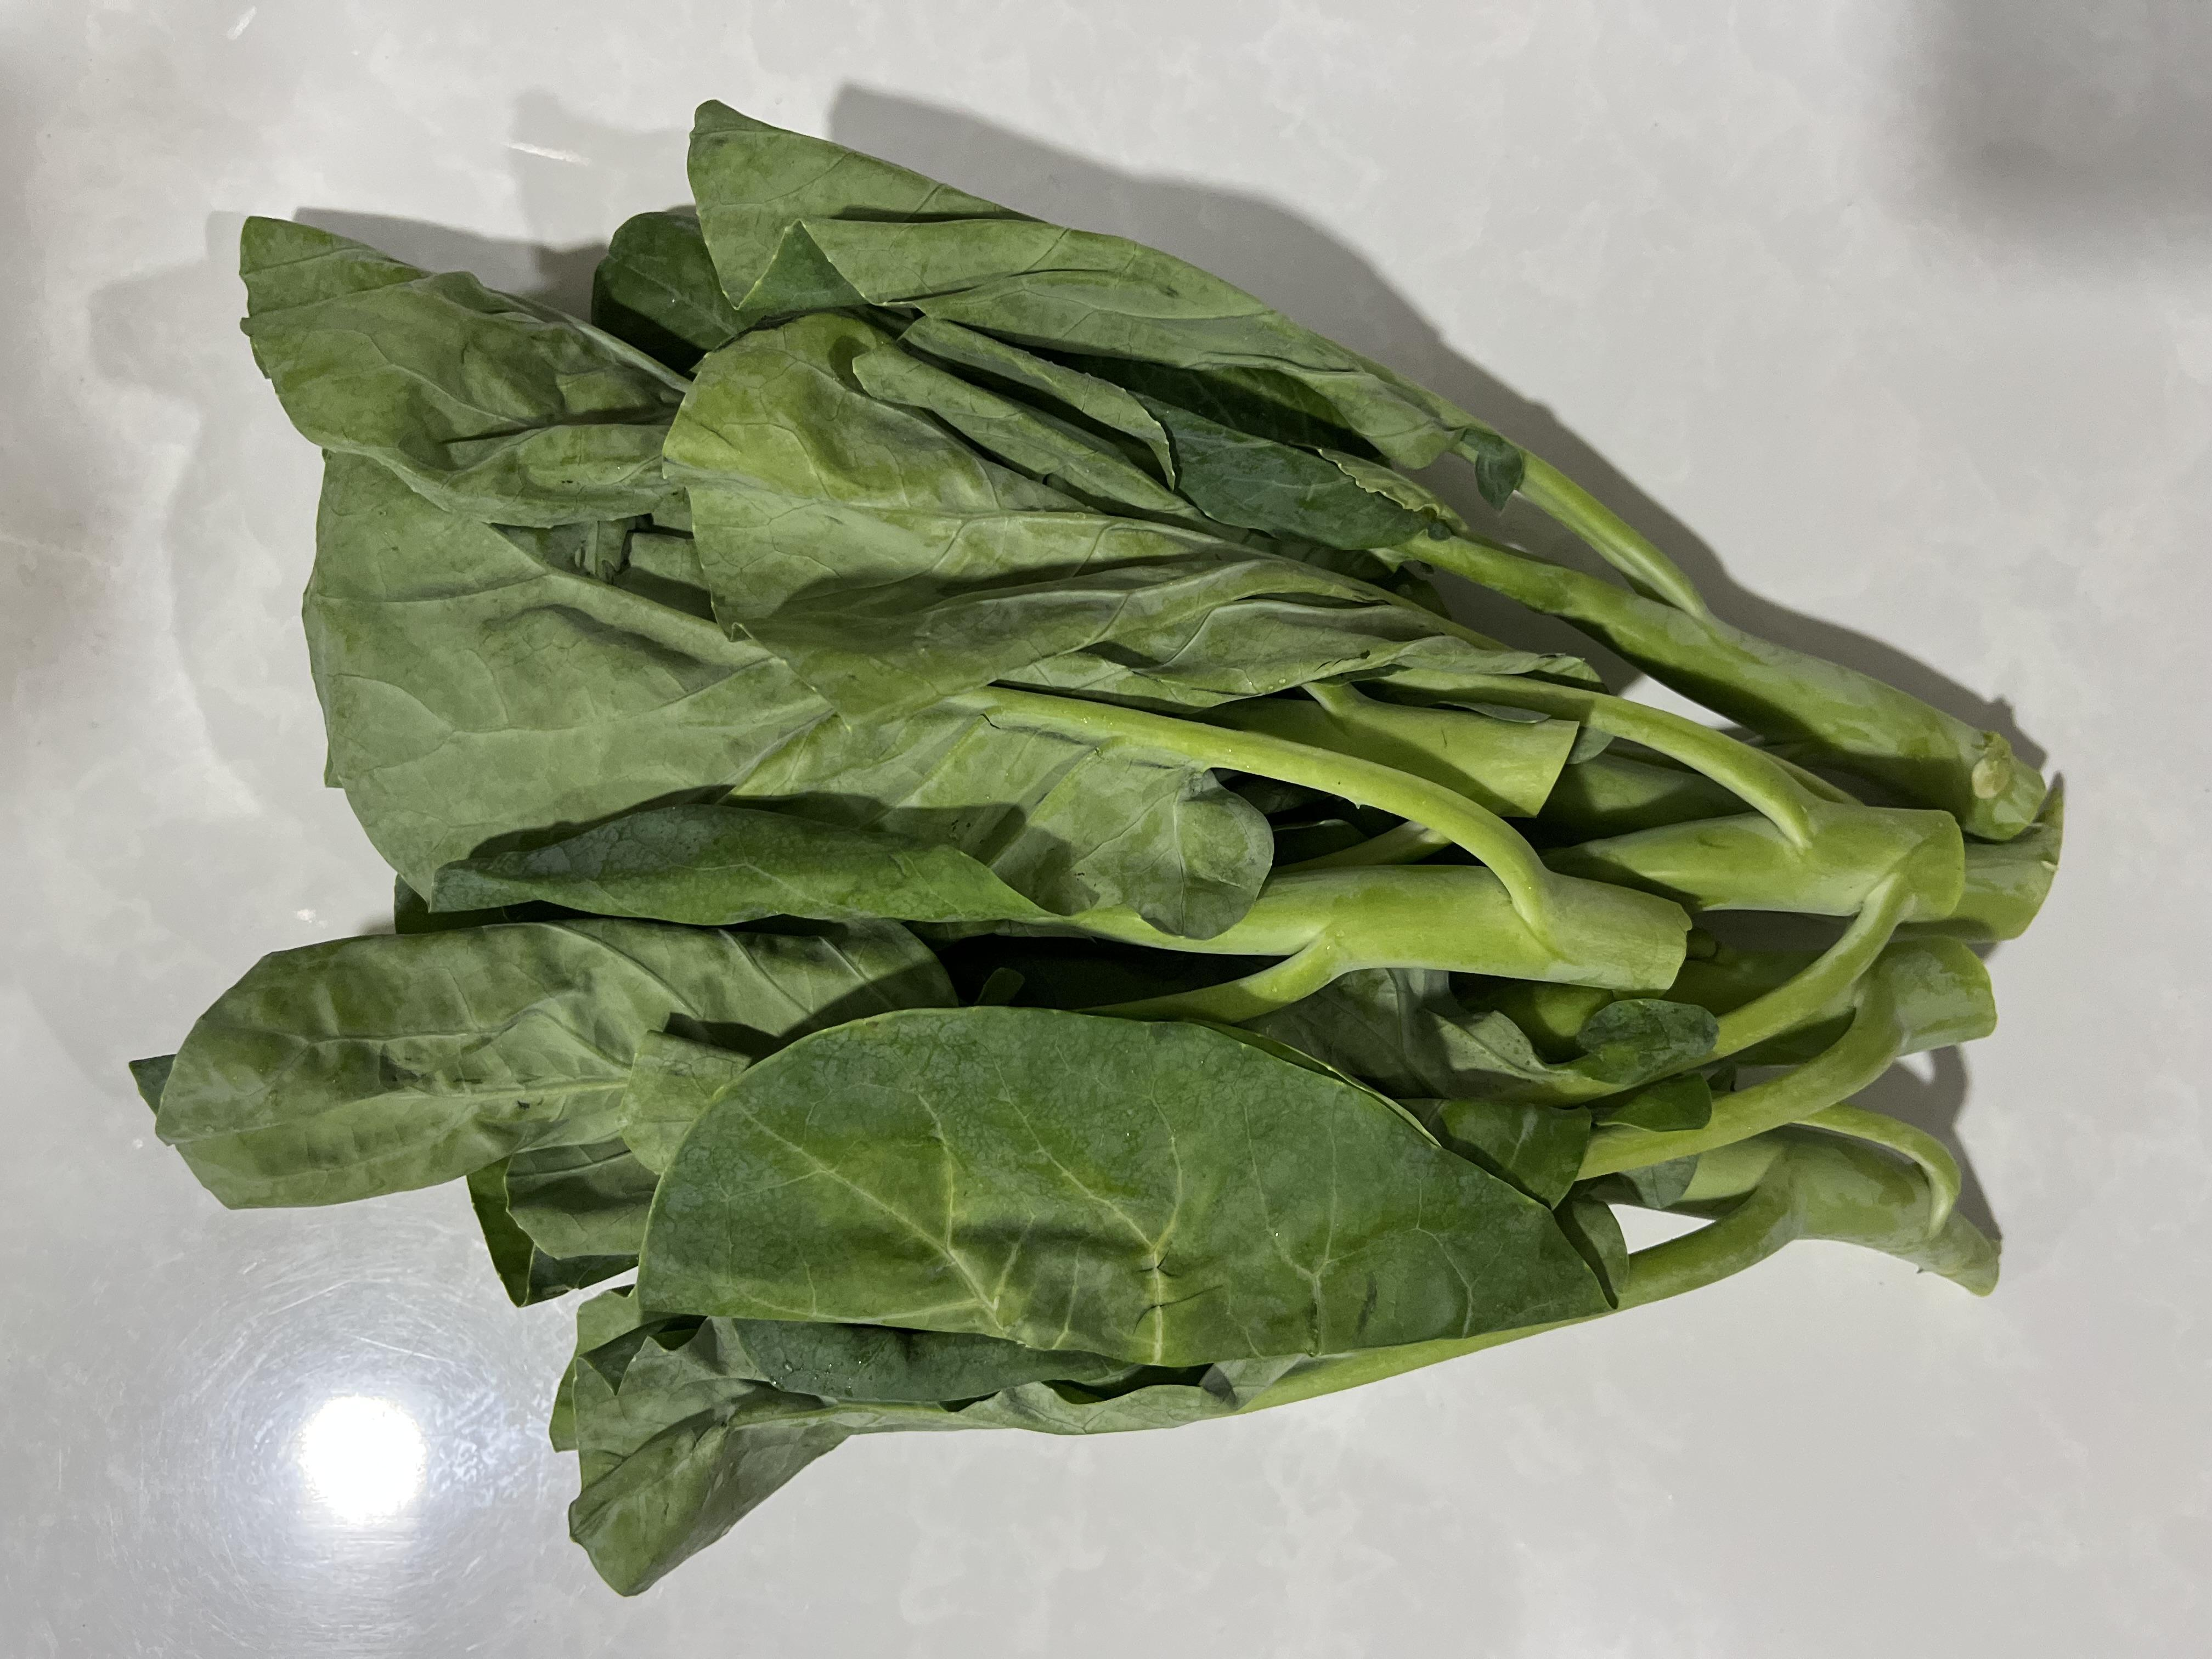Healthy-Pechay: (143, 0, 2080, 1530)
